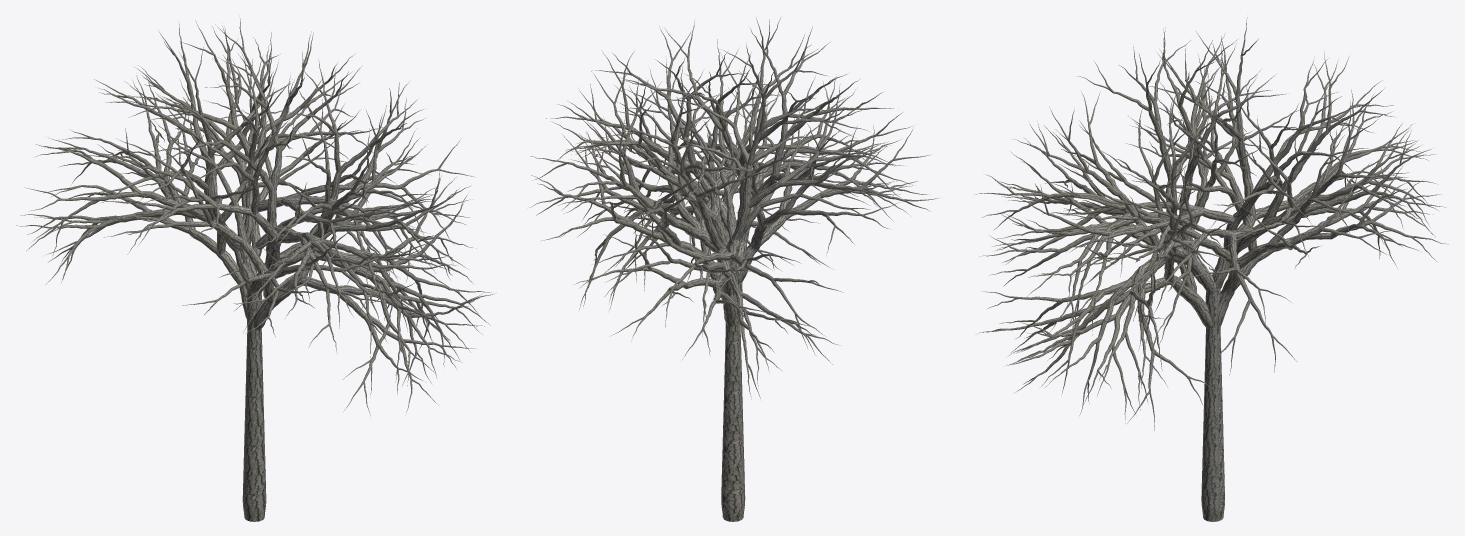
Rendered from tree_01.glb.
3 views of the same model, side by side, from view 1: azimuth 30°, elevation 25°; view 2: azimuth 150°, elevation 25°; view 3: azimuth 270°, elevation 25° (orthographic).
Visible parts, largest first — view 1: Tree; view 2: Tree; view 3: Tree.
Boxes of the visible parts, box(x1,y1,x2,y2) form: Tree: box(16, 18, 493, 521); Tree: box(530, 16, 939, 521); Tree: box(974, 17, 1448, 521).
Bounding box in the file's own units: 15.64 × 19.51 × 17.85.
Materials: 1 (1 with a texture image).
